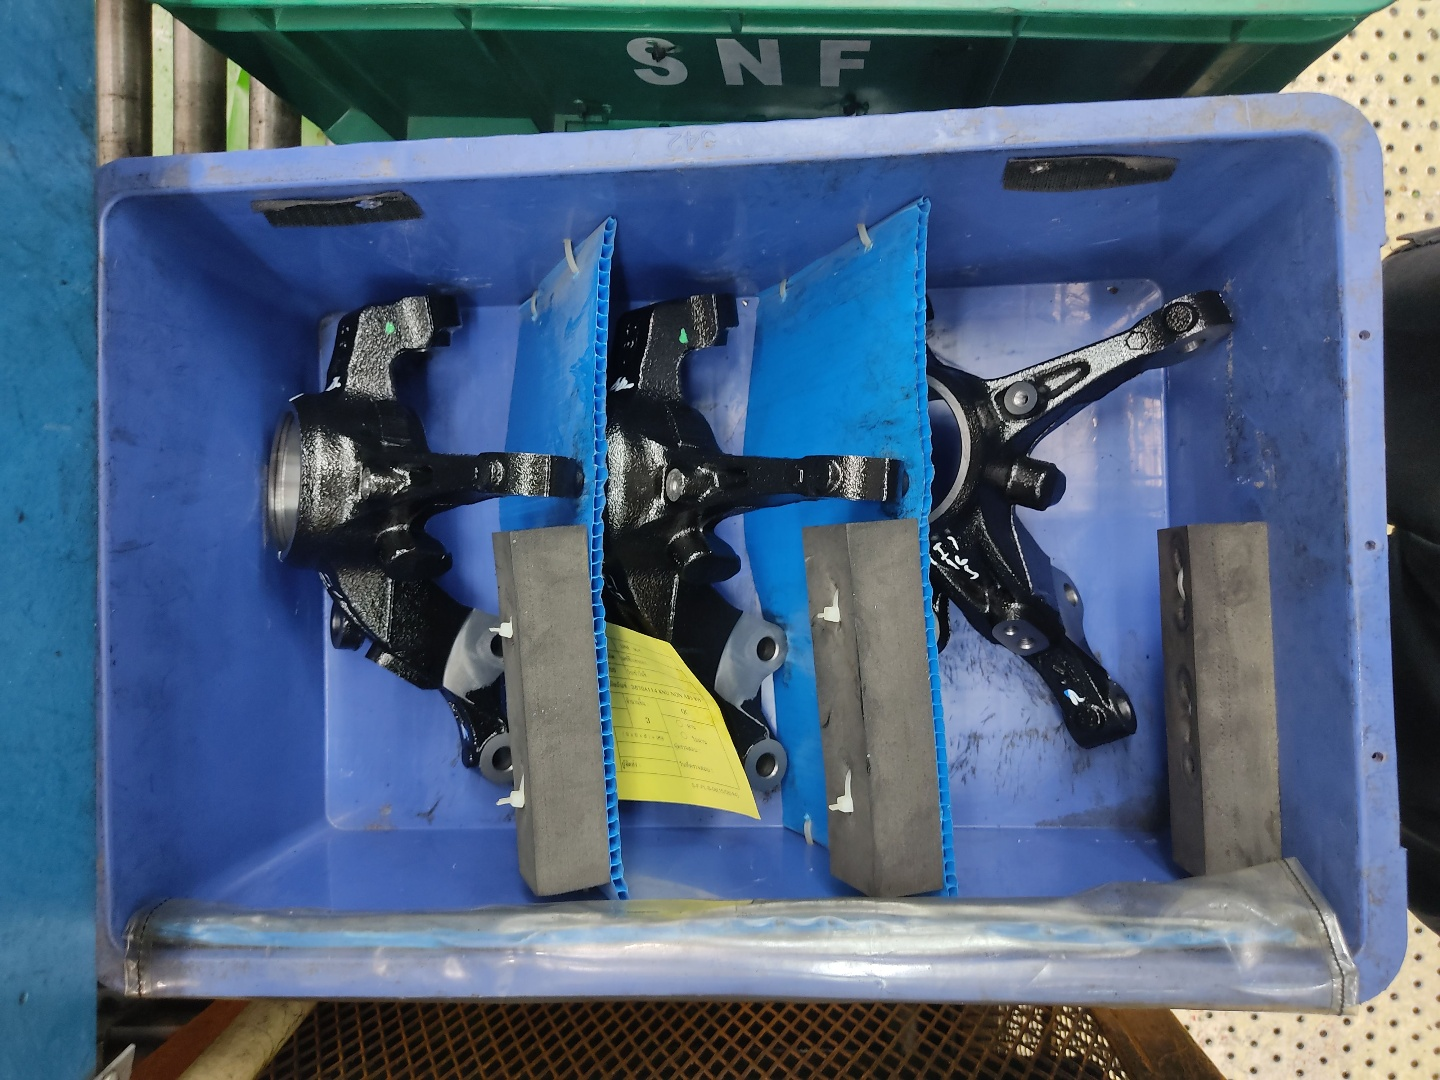non-rh: (254, 282, 594, 795), (607, 281, 915, 805), (922, 286, 1242, 770)
